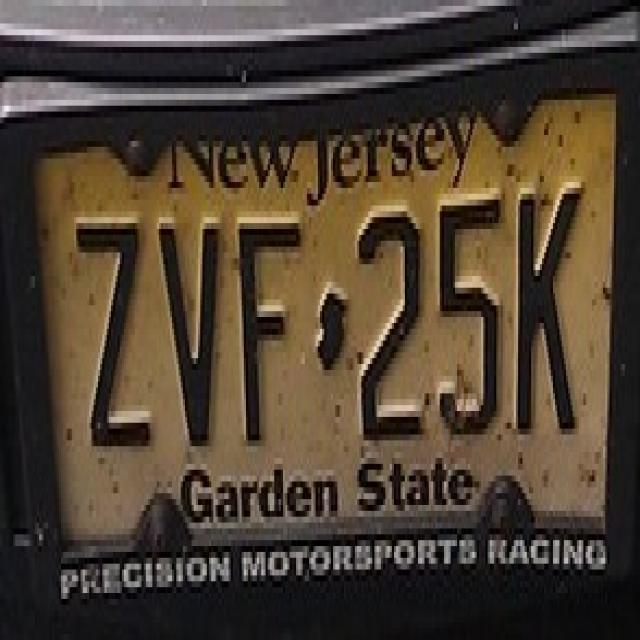LicensePlate: (14, 76, 614, 614)
